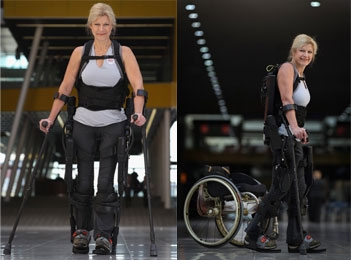feet: (244, 212, 322, 255), (71, 214, 117, 257)
